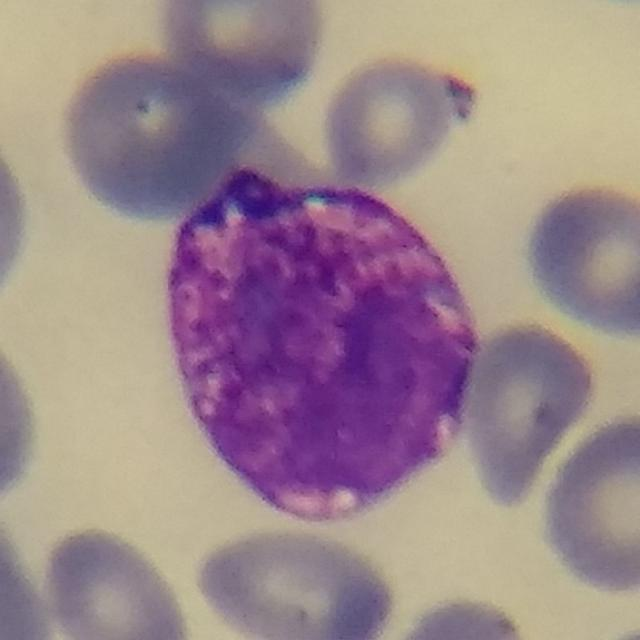baso: (155, 168, 481, 518)
